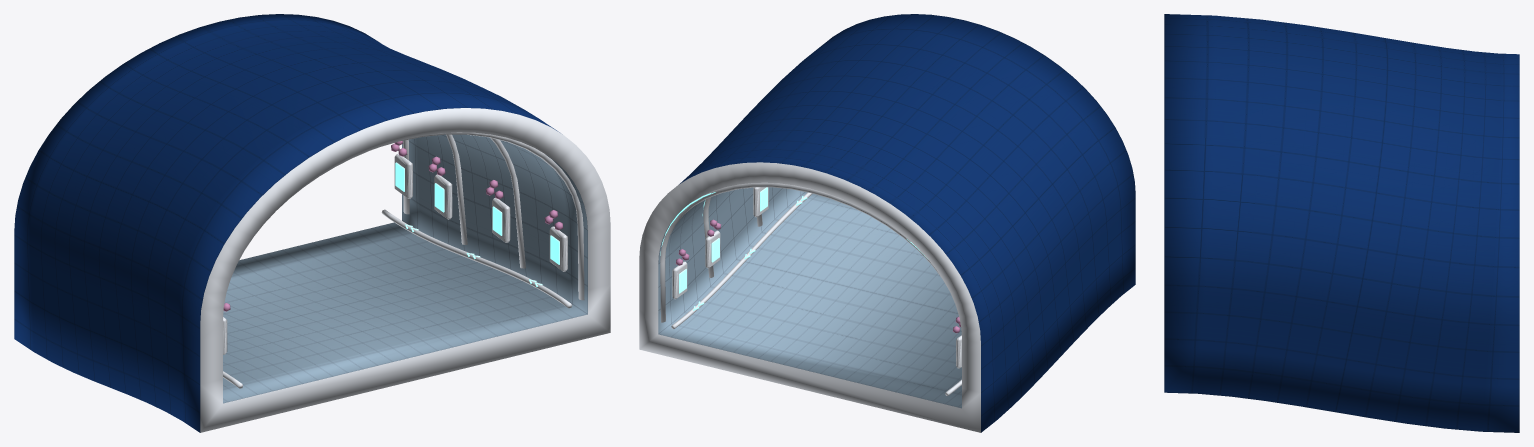
File: grade_down_lod1.glb
3 views of the same model, side by side, from view 1: azimuth 30°, elevation 25°; view 2: azimuth 150°, elevation 25°; view 3: azimuth 270°, elevation 25° (orthographic). The views are drawn at different scales.
Visible parts, largest first — view 1: TunnelGeometry.001; view 2: TunnelGeometry.001; view 3: TunnelGeometry.001.
Part boxes in pixels (x1,y1,x2,y2): TunnelGeometry.001: (14,14,610,432); TunnelGeometry.001: (639,14,1135,432); TunnelGeometry.001: (1164,14,1519,432).
Bounding box in the file's own units: 15.3 × 11.02 × 12.
Materials: 5 (2 with a texture image).
